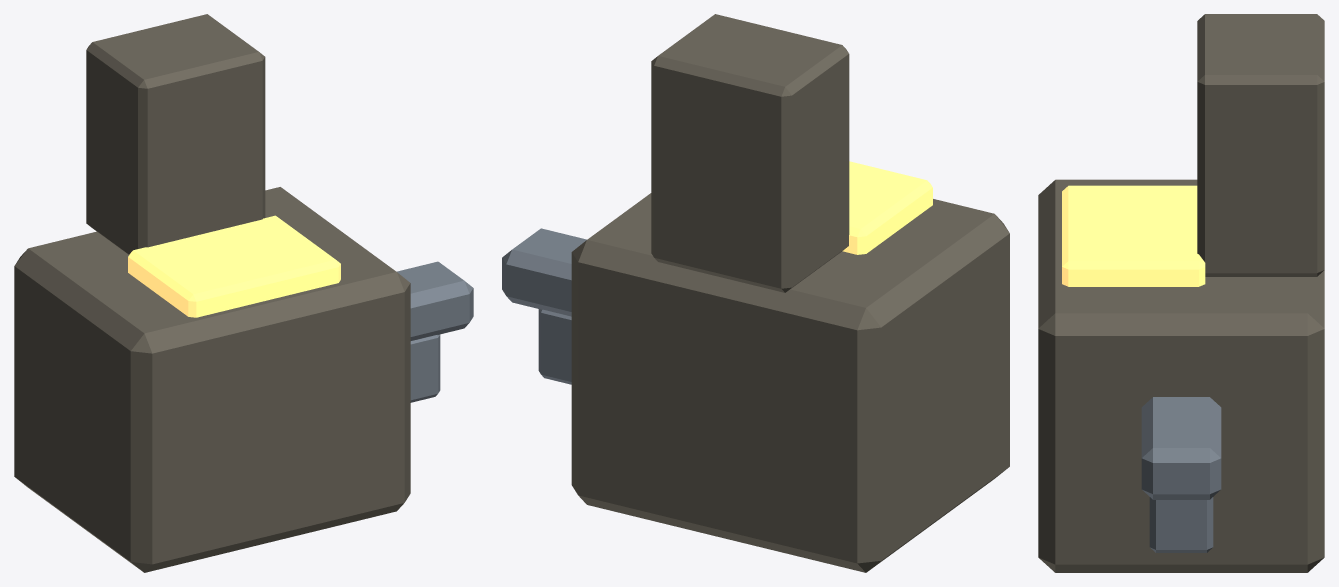
Rendered from prp_station_forge.glb.
3 views of the same model, side by side, from view 1: azimuth 30°, elevation 25°; view 2: azimuth 150°, elevation 25°; view 3: azimuth 270°, elevation 25° (orthographic). The views are drawn at different scales.
Parts seen in each view (by area): view 1: prp_station_forge; view 2: prp_station_forge; view 3: prp_station_forge.
Boxes of the visible parts, x1,y1,x2,y2 form: prp_station_forge: (14,14,473,572); prp_station_forge: (502,14,1009,572); prp_station_forge: (1038,14,1324,572).
Bounding box in the file's own units: 1.53 × 1.6 × 0.9.
